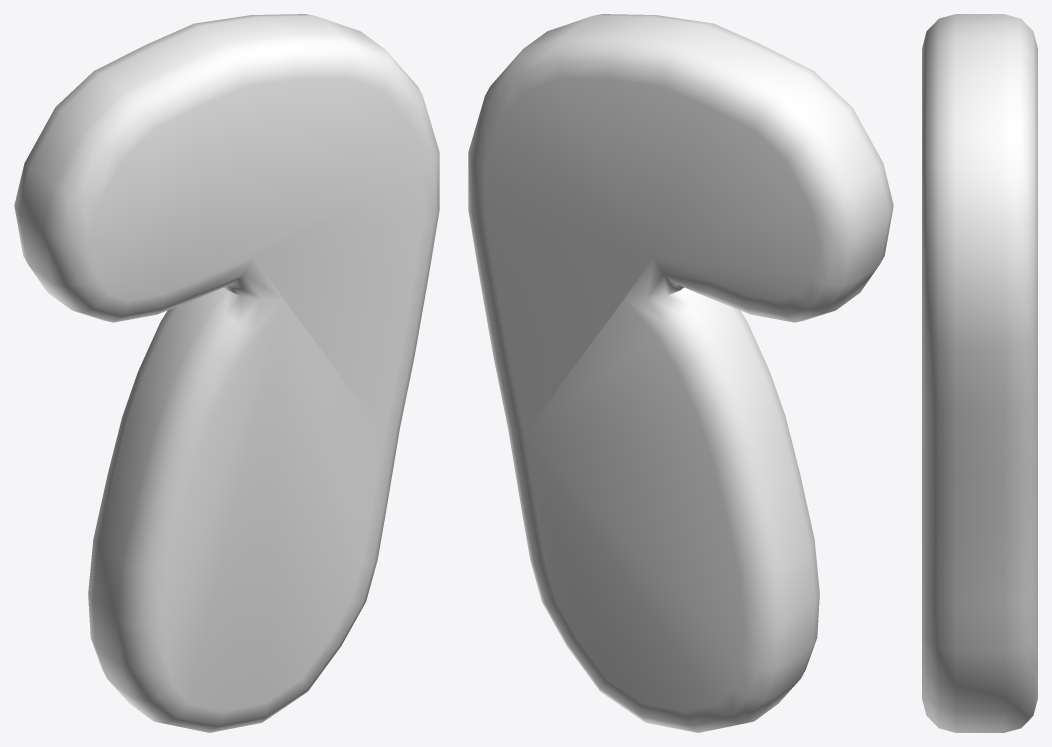
The model's file is NumberSeven 1.fbx.
3 views of the same model, side by side, from view 1: azimuth 30°, elevation 25°; view 2: azimuth 150°, elevation 25°; view 3: azimuth 270°, elevation 25° (orthographic).
Parts seen in each view (by area): view 1: Vert.009; view 2: Vert.009; view 3: Vert.009.
Boxes of the visible parts, bbox=[...] form: Vert.009: bbox=[14, 14, 439, 732]; Vert.009: bbox=[468, 14, 893, 732]; Vert.009: bbox=[922, 14, 1037, 732].
Bounding box in the file's own units: 194 × 324 × 50.18.
